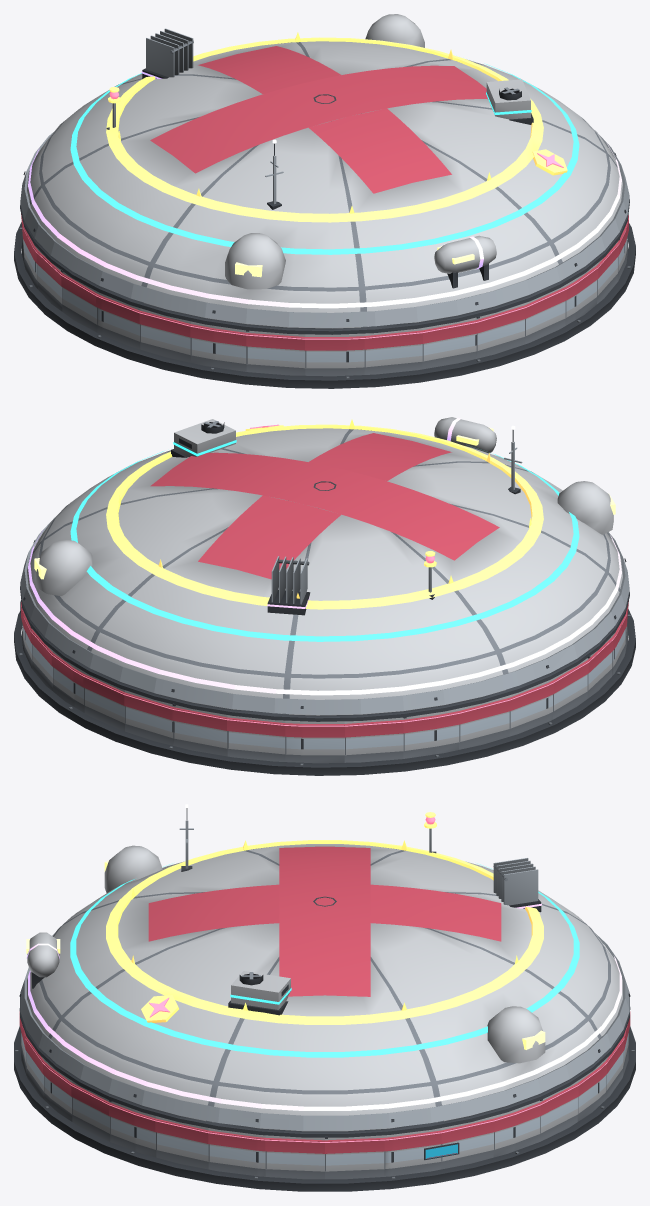
The model's file is medical_l.glb.
3 views of the same model, one above another, from view 1: azimuth 30°, elevation 25°; view 2: azimuth 150°, elevation 25°; view 3: azimuth 270°, elevation 25° (orthographic).
Visible parts, largest first — view 1: Roof, Base, L5, L3, L4, Wall_21, Wall_20, Wall_22, Wall_19, Wall_23, Wall_18, Wall_24 (+17 smaller); view 2: Roof, Base, L5, L3, L4, Wall_10, Wall_11, Wall_09, Wall_12, Wall_08, Wall_13, Wall_07 (+18 smaller); view 3: Roof, Base, L5, L3, L4, Wall_00, Wall_31, Wall_30, Wall_29, Wall_01, Wall_02, Wall_03 (+17 smaller).
Boxes of the visible parts, left/top/right/bottom form: Roof: left=20, top=14, right=629, bottom=334; Base: left=14, top=222, right=635, bottom=388; L5: left=106, top=32, right=567, bottom=222; L3: left=70, top=63, right=579, bottom=254; L4: left=141, top=28, right=496, bottom=288; Wall_21: left=305, top=333, right=364, bottom=376; Wall_20: left=246, top=330, right=305, bottom=375; Wall_22: left=364, top=328, right=422, bottom=374; Wall_19: left=190, top=321, right=246, bottom=371; Wall_23: left=422, top=317, right=477, bottom=369; Wall_18: left=139, top=308, right=190, bottom=362; Wall_24: left=476, top=303, right=525, bottom=358; Roof: left=20, top=428, right=629, bottom=721; Base: left=14, top=609, right=635, bottom=775; L5: left=106, top=419, right=543, bottom=609; L3: left=70, top=419, right=579, bottom=641; L4: left=267, top=417, right=496, bottom=615; Wall_10: left=285, top=720, right=344, bottom=763; Wall_11: left=344, top=717, right=403, bottom=762; Wall_09: left=227, top=715, right=285, bottom=761; Wall_12: left=403, top=708, right=459, bottom=758; Wall_08: left=172, top=703, right=227, bottom=756; Wall_13: left=459, top=695, right=510, bottom=749; Wall_07: left=124, top=690, right=173, bottom=745; Roof: left=20, top=844, right=629, bottom=1137; Base: left=14, top=1026, right=635, bottom=1191; L5: left=106, top=812, right=543, bottom=1024; L3: left=70, top=863, right=579, bottom=1057; L4: left=26, top=858, right=541, bottom=988; Wall_00: left=325, top=1135, right=384, bottom=1179; Wall_31: left=265, top=1135, right=324, bottom=1179; Wall_30: left=208, top=1128, right=265, bottom=1176; Wall_29: left=155, top=1116, right=208, bottom=1169; Wall_01: left=384, top=1128, right=441, bottom=1176; Wall_02: left=441, top=1116, right=494, bottom=1169; Wall_03: left=493, top=1100, right=540, bottom=1157.
Size of the model in its own units: 17.16 by 6 by 17.16.
